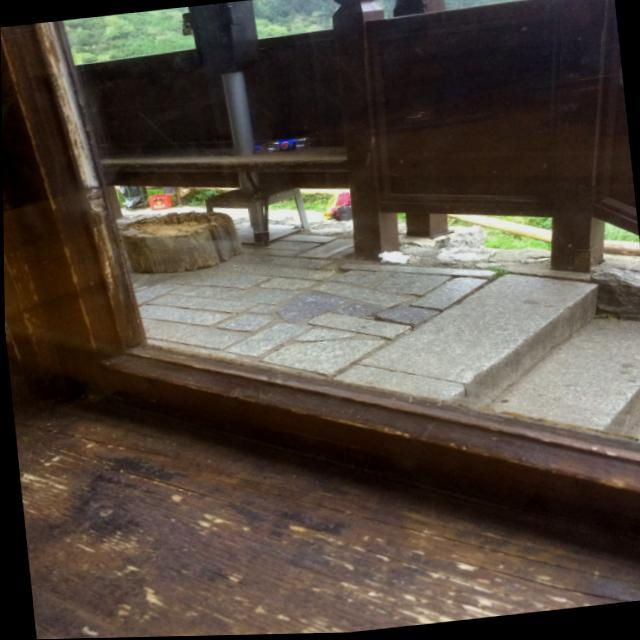Plastic: (248, 135, 313, 158), (372, 247, 413, 271)
